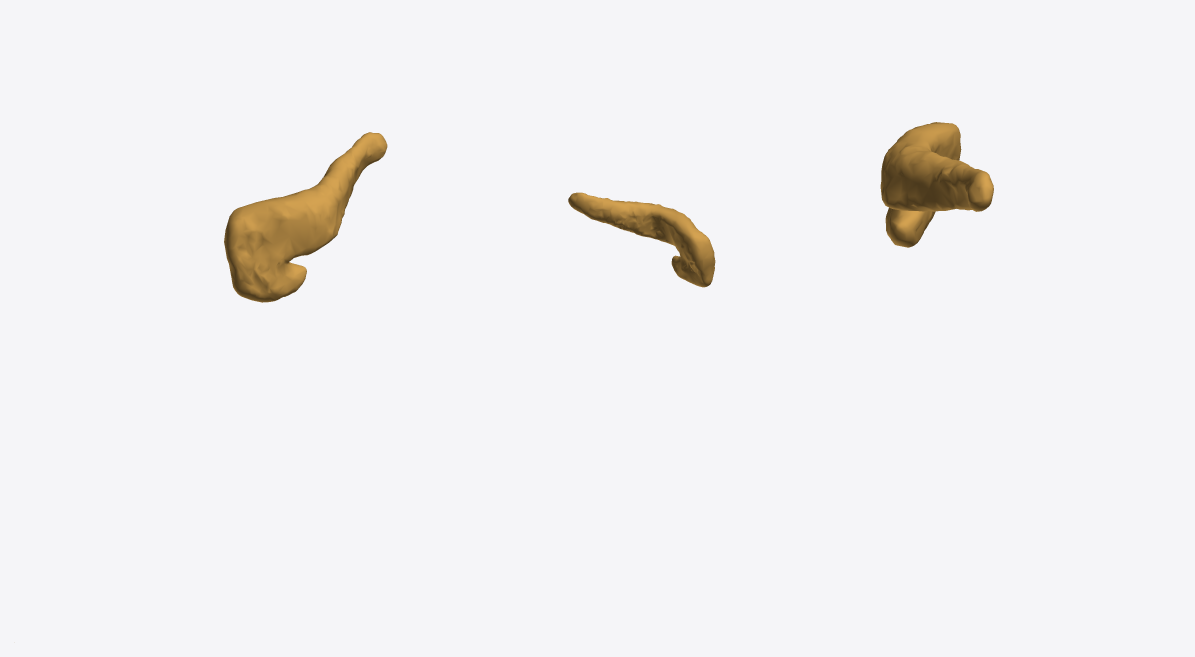
Rendered from oshqozon_osti.glb.
3 views of the same model, side by side, from view 1: azimuth 30°, elevation 25°; view 2: azimuth 150°, elevation 25°; view 3: azimuth 270°, elevation 25° (orthographic). The views are drawn at different scales.
Visible parts, largest first — view 1: oshqozon_osti; view 2: oshqozon_osti; view 3: oshqozon_osti.
Part boxes in pixels (bbox=[...]): oshqozon_osti: bbox=[224, 132, 387, 302]; oshqozon_osti: bbox=[568, 192, 715, 287]; oshqozon_osti: bbox=[880, 122, 993, 247].
Bounding box in the file's own units: 0.2441 × 0.4258 × 0.191.
